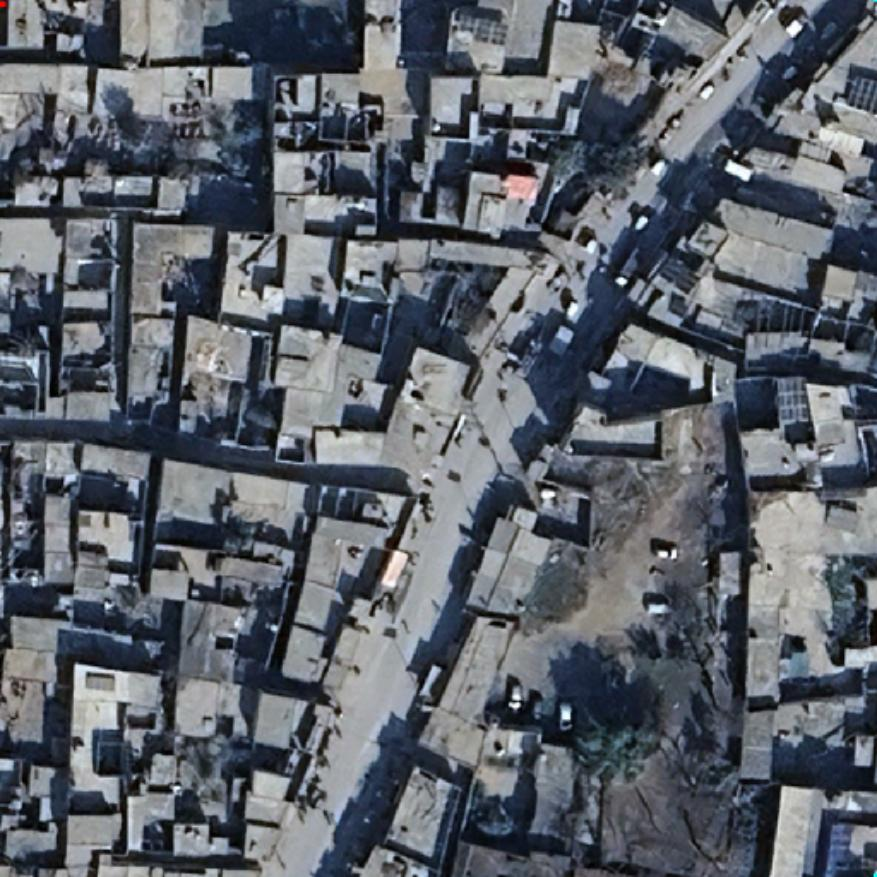Solarpanel: (773, 374, 808, 425), (460, 13, 509, 45), (846, 75, 877, 115)
